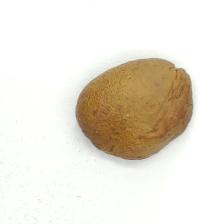NG: (153, 60, 195, 137)
